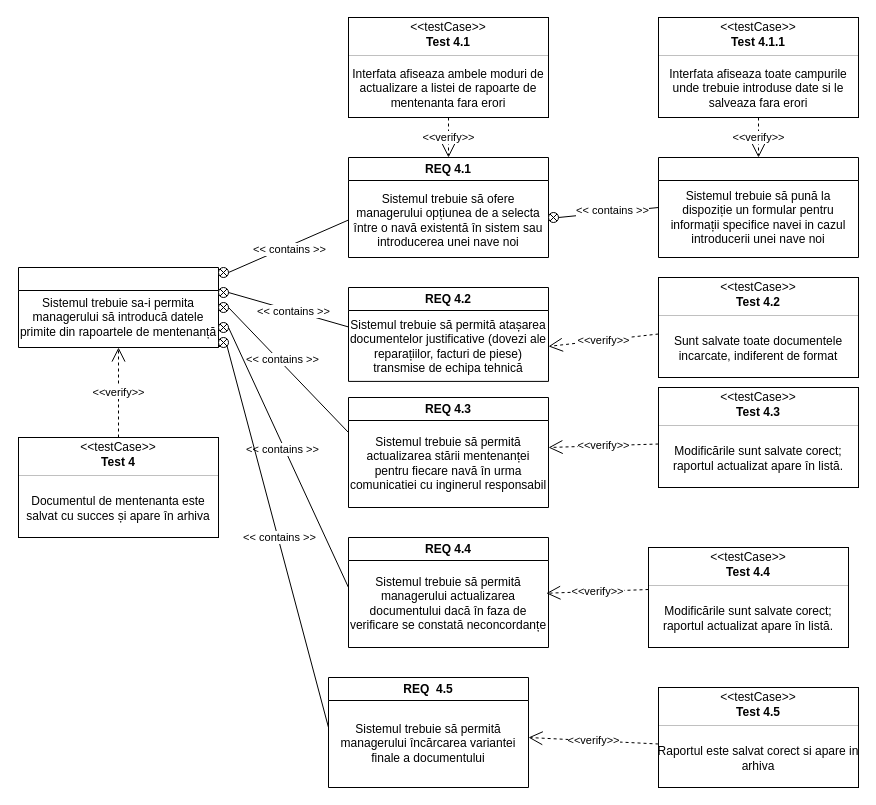
The diagram is 876 pixels wide and 805 high, and some of its shapes have lost their labels. The shapes that lost their labels are listed below. From the top down, each one's box as (x1, y1, x2, y2) in pixels, then its label:
(658, 156, 858, 258): REQ 4.1.1
(18, 266, 218, 348): REQ 4
